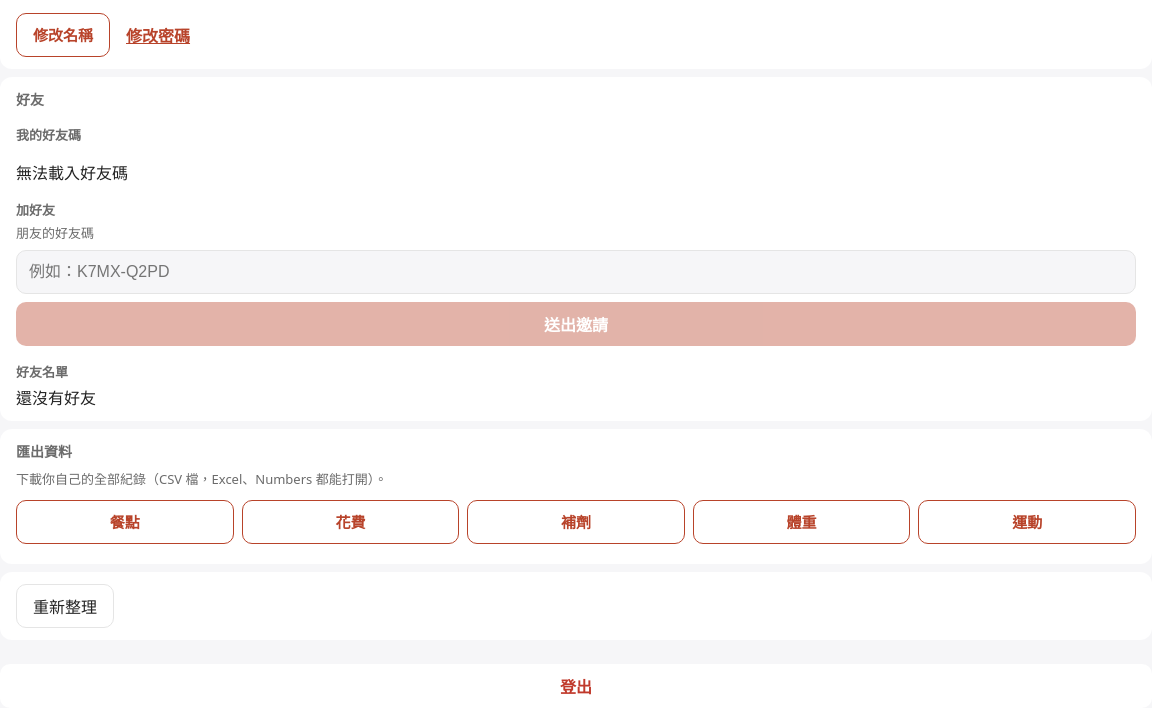
Scenario: 我的 › 「重新整理」失敗時顯示提示，不丟出未處理的 rejection
(page scrolled)
Click the button "重新整理" at (65, 606), box [16,584,114,628]
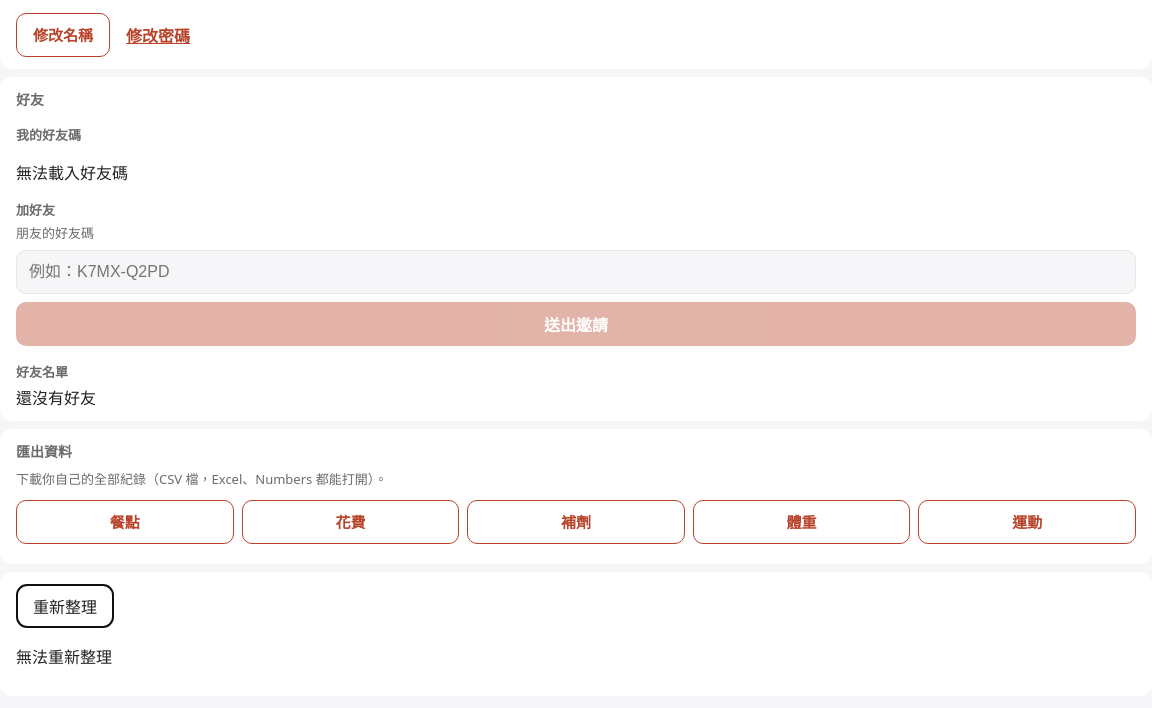
Expected: the message reads "無法重新整理", [16,646,112,668]
